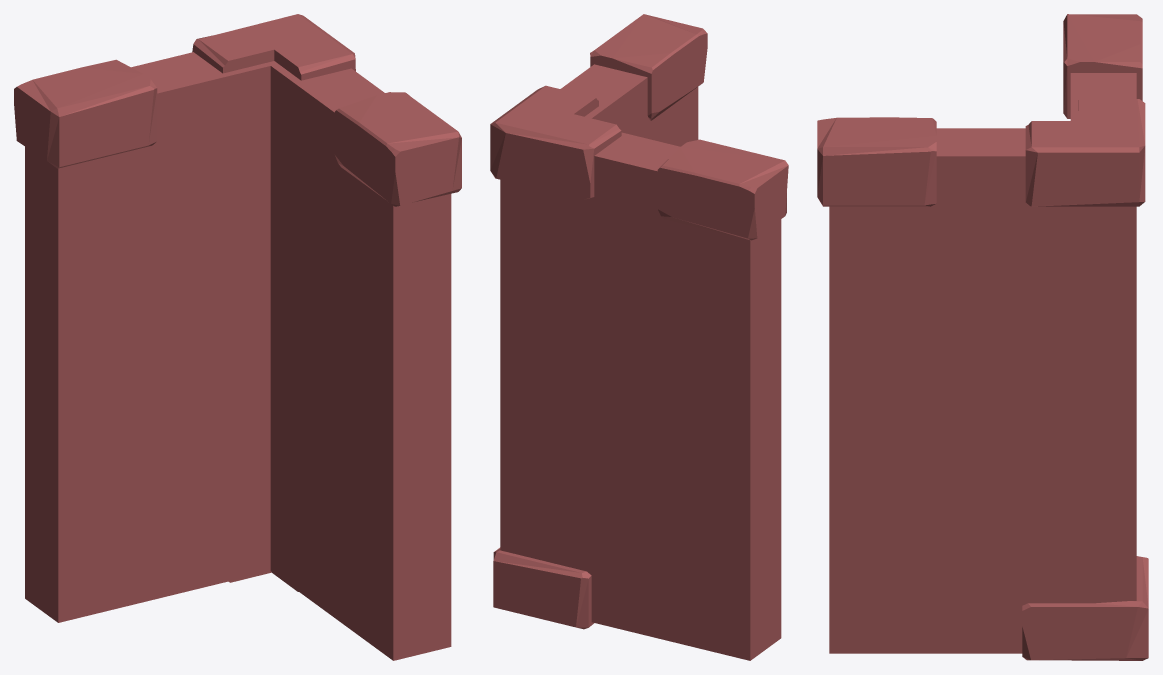
Rendered from PK_Wall_Corner.fbx.
The picture shows the model from 3 angles, left to right: view 1: azimuth 30°, elevation 25°; view 2: azimuth 150°, elevation 25°; view 3: azimuth 270°, elevation 25°; orthographic projection. The views are drawn at different scales.
Parts seen in each view (by area): view 1: PK_Wall_Corner; view 2: PK_Wall_Corner; view 3: PK_Wall_Corner.
Part boxes in pixels (box(x1,y1,x2,y2)): PK_Wall_Corner: box(14, 14, 461, 660); PK_Wall_Corner: box(490, 14, 788, 660); PK_Wall_Corner: box(817, 14, 1148, 660).
Bounding box in the file's own units: 119 × 207 × 121.
